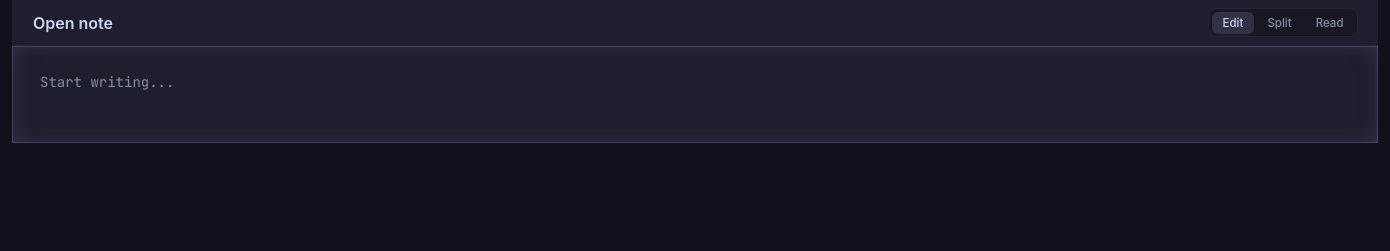
Scenario: Link autocomplete (#548) › closes on Esc without letting the key through, and stays closed in that link
Type "[ [pl" into the text box with class "editor-textarea".
click(695, 94); type("[ [pl")  # box [12,46,1378,143]
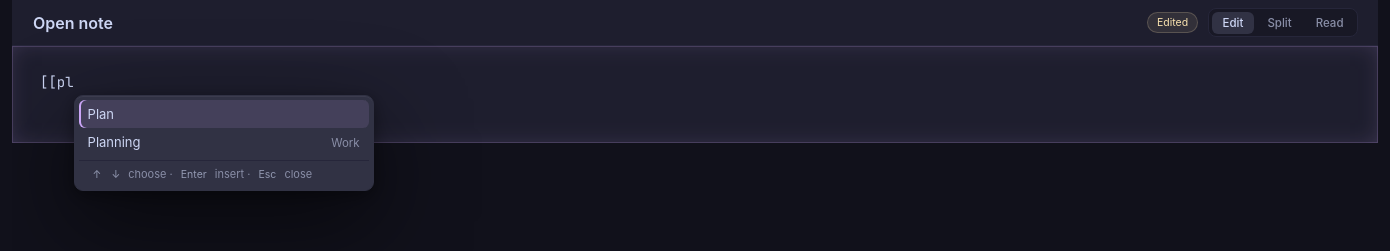
Press Escape in the text box with class "editor-textarea", box [12,46,1378,143]
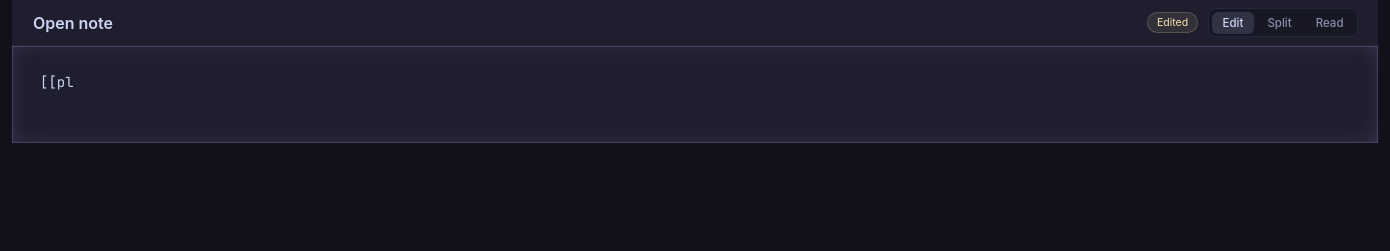
Expected: the list is gone
Replace the text in the text box with class "editor-textarea" with "[ [pla" at (695, 94), box [12,46,1378,143]
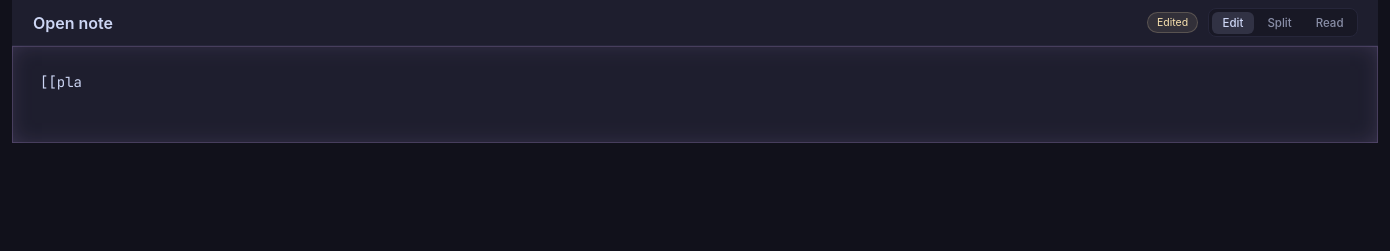
Replace the text in the text box with class "editor-textarea" with "[ [pla and [ [" at (695, 94), box [12,46,1378,143]
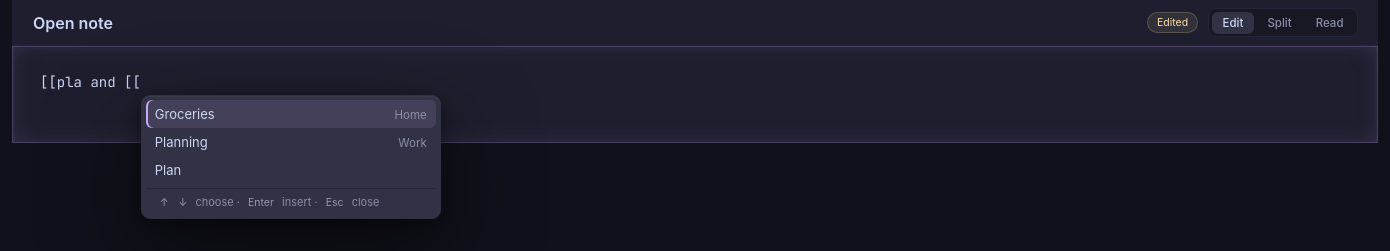
Expected: the list is shown, [146,100,436,184]
